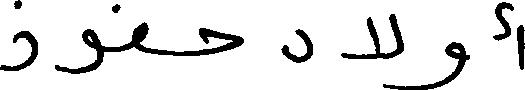X: (342, 9, 403, 89), (405, 37, 464, 89), (0, 0, 36, 75), (57, 24, 101, 78), (495, 0, 524, 74), (200, 23, 241, 59), (284, 24, 310, 67), (135, 17, 145, 57)
